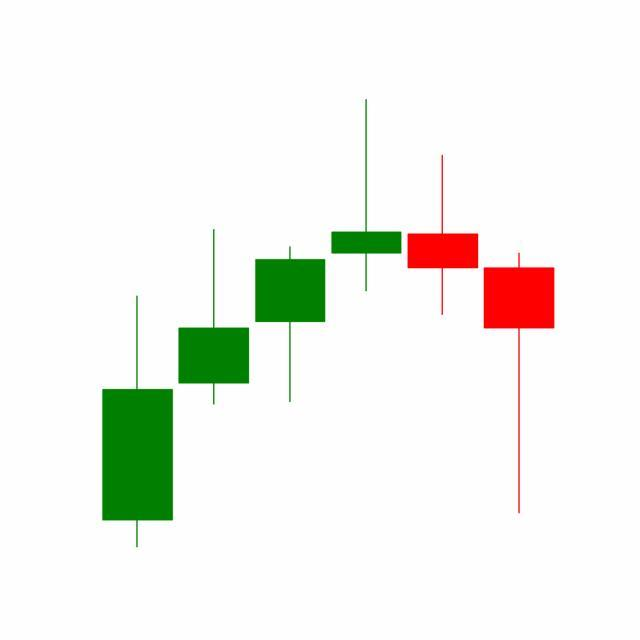Upside-Downside Gap Three Methods: (252, 100, 482, 408)
